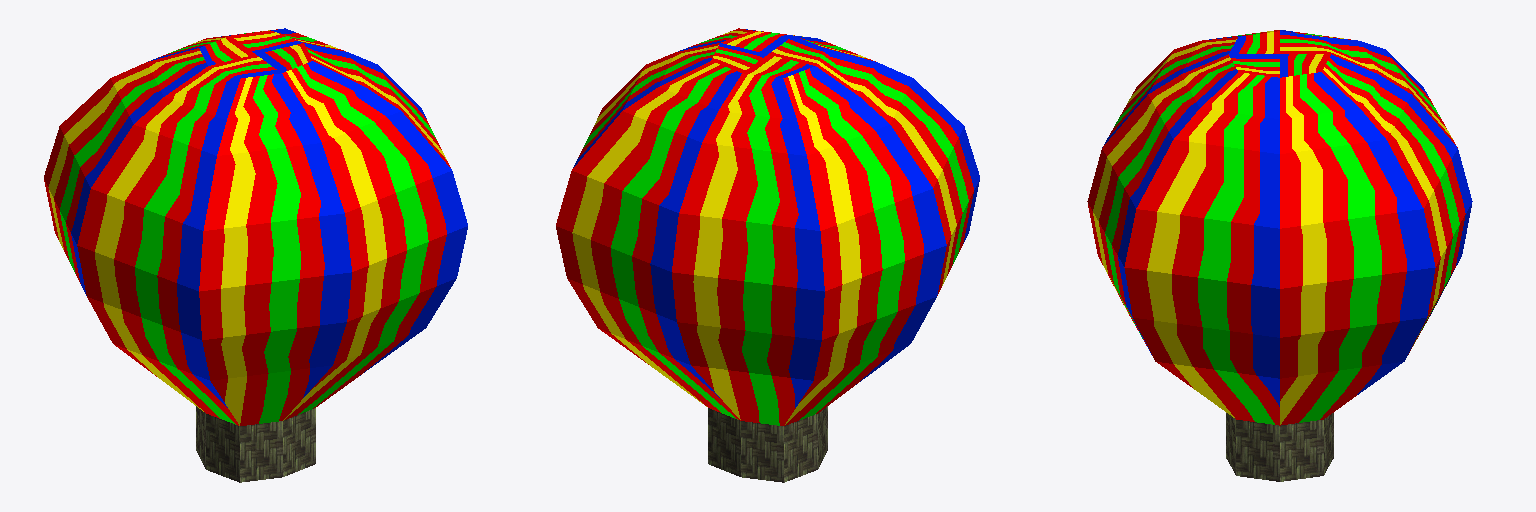
3 renders of one model, left to right at view 1: azimuth 30°, elevation 25°; view 2: azimuth 150°, elevation 25°; view 3: azimuth 270°, elevation 25°, orthographic.
Visible parts, largest first — view 1: Cube_Cube.001; view 2: Cube_Cube.001; view 3: Cube_Cube.001.
Part boxes in pixels (x1,y1,x2,y2): Cube_Cube.001: (44,28,467,482); Cube_Cube.001: (556,28,979,482); Cube_Cube.001: (1087,30,1472,481).
Size of the model in its own units: 38.18 by 41.13 by 35.62.
Materials: 1 (1 with a texture image).